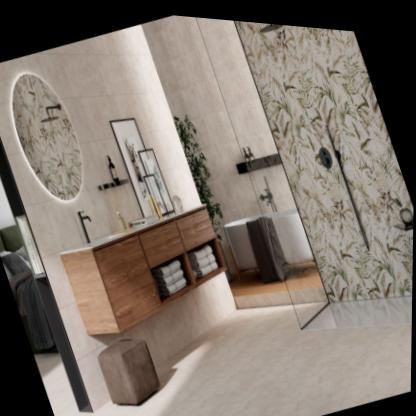Cabinet: (62, 202, 224, 337)
Ceramic floor: (145, 316, 413, 416)
